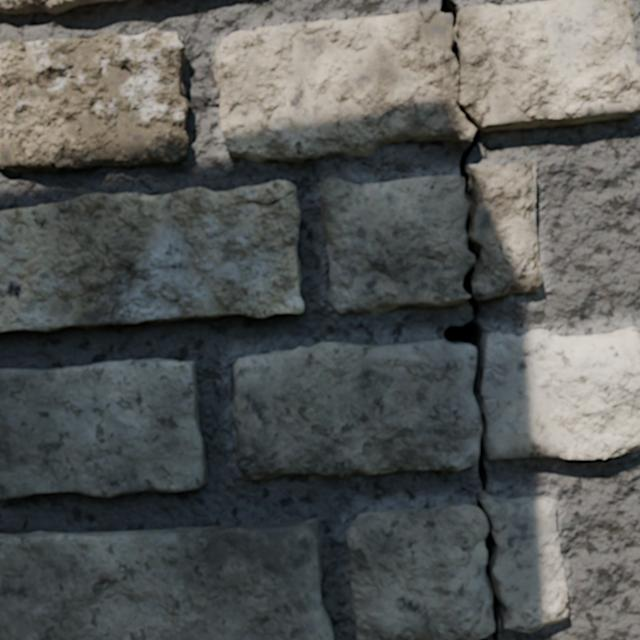broken_brick: (214, 0, 639, 162), (232, 339, 481, 481), (319, 175, 474, 315), (482, 327, 639, 459), (346, 502, 494, 639), (479, 495, 568, 633), (470, 162, 542, 300)
crack: (0, 180, 304, 331), (0, 517, 334, 639), (0, 358, 207, 499), (0, 29, 190, 173), (443, 104, 489, 497), (476, 499, 511, 639), (0, 0, 123, 14), (440, 0, 463, 69), (458, 72, 463, 91), (222, 145, 228, 155)
